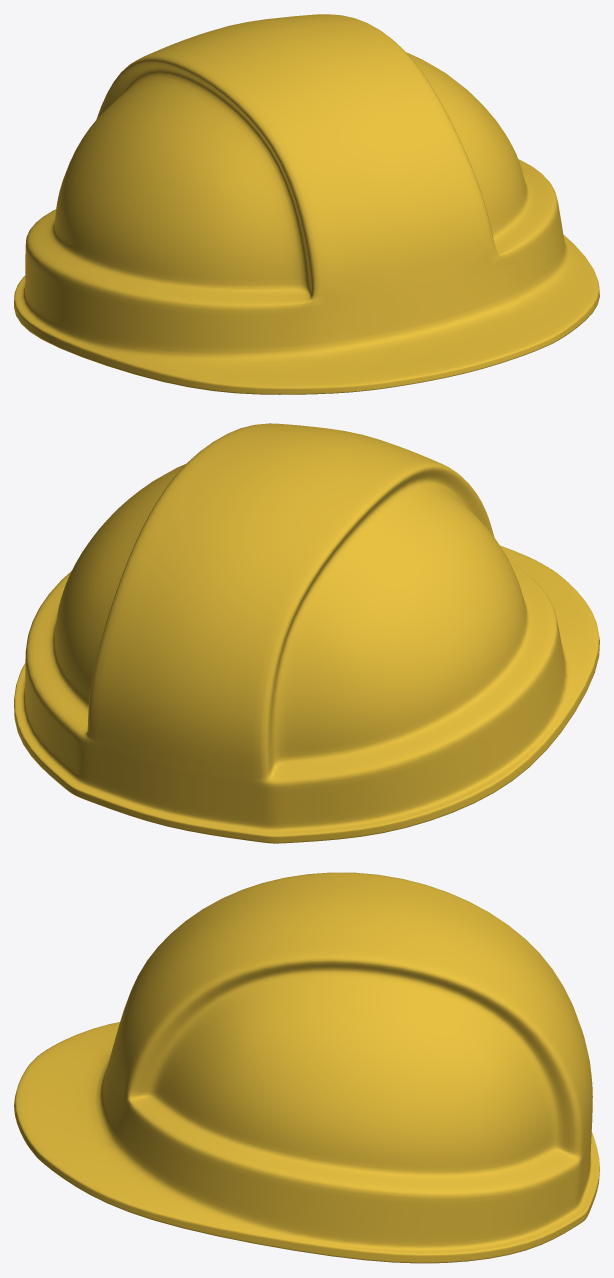
The model's file is HAT_04.glb.
3 views of the same model, one above another, from view 1: azimuth 30°, elevation 25°; view 2: azimuth 150°, elevation 25°; view 3: azimuth 270°, elevation 25° (orthographic).
Parts seen in each view (by area): view 1: Cube; view 2: Cube; view 3: Cube.
Boxes of the visible parts, box(x1,y1,x2,y2) form: Cube: box(14, 14, 599, 394); Cube: box(14, 423, 599, 843); Cube: box(14, 872, 599, 1263).
Bounding box in the file's own units: 1.94 × 1.04 × 2.06.
